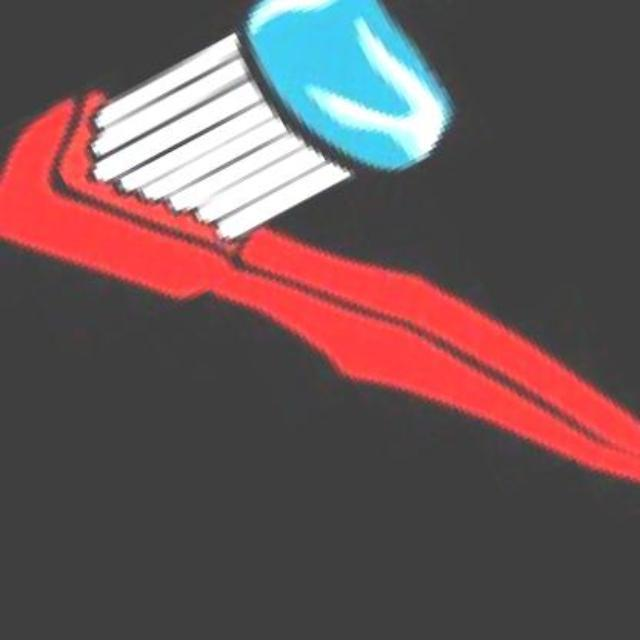toothbrush: (1, 0, 442, 392)
